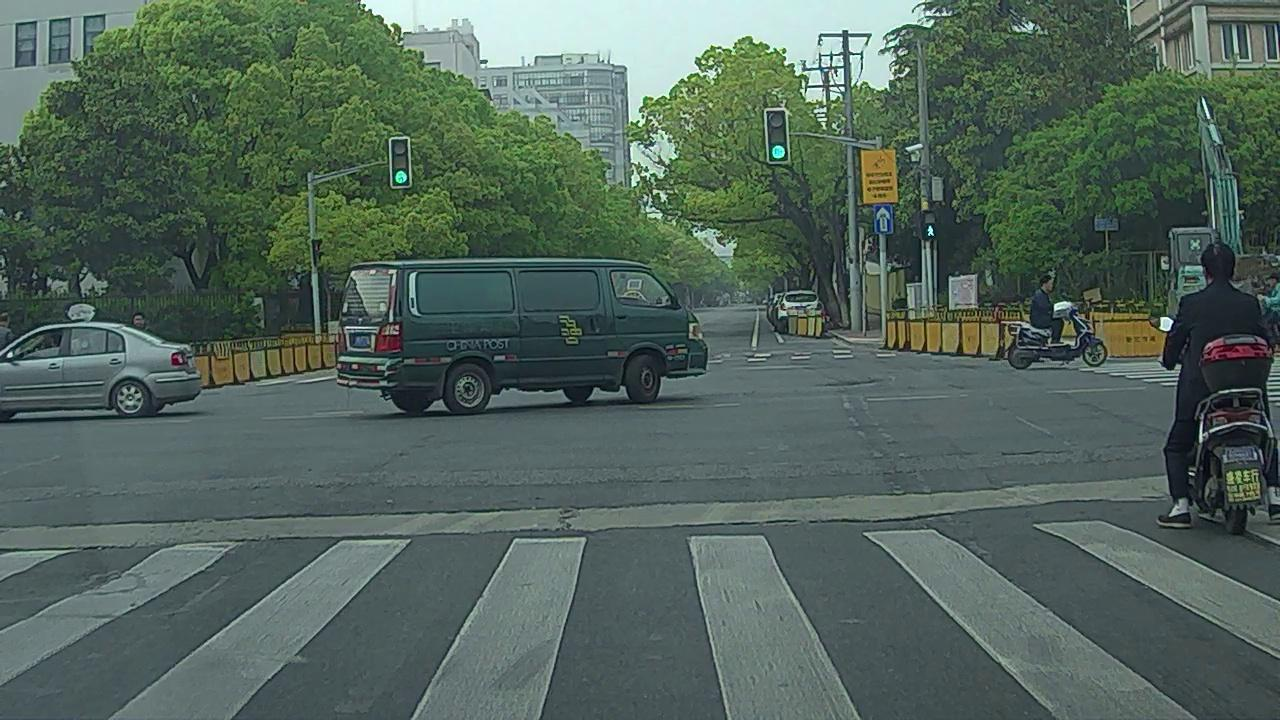traffic_light: (767, 110, 788, 162), (390, 139, 411, 186)
